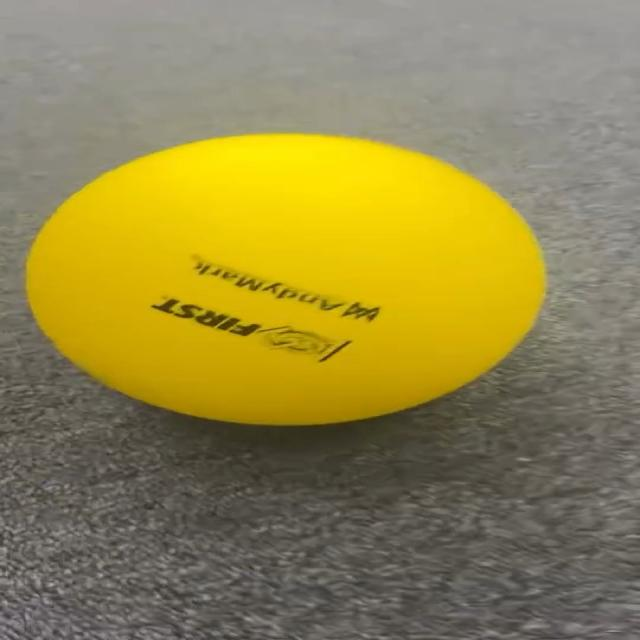Fuels: (27, 135, 545, 421)
